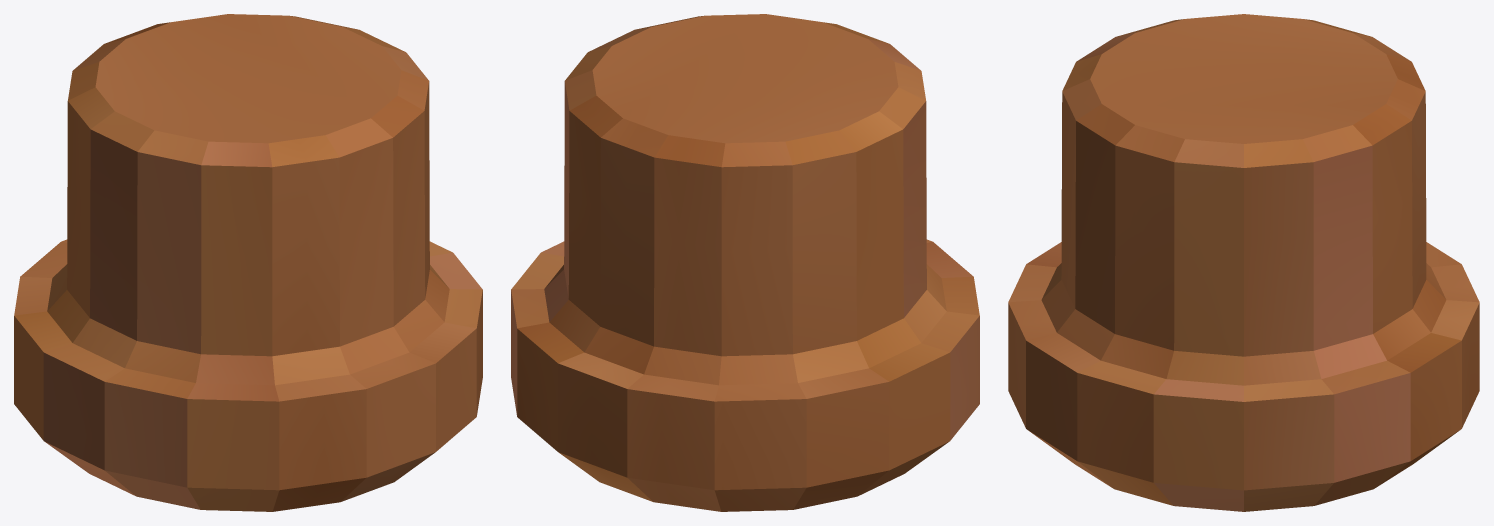
File: original-95.obj
The picture shows the model from 3 angles, left to right: view 1: azimuth 30°, elevation 25°; view 2: azimuth 150°, elevation 25°; view 3: azimuth 270°, elevation 25°; orthographic projection.
Parts seen in each view (by area): view 1: mesh89/mesh89-geometry#mesh89-geometry; view 2: mesh89/mesh89-geometry#mesh89-geometry; view 3: mesh89/mesh89-geometry#mesh89-geometry.
Boxes of the visible parts, x1=… form: mesh89/mesh89-geometry#mesh89-geometry: x1=14, y1=14, x2=482, y2=511; mesh89/mesh89-geometry#mesh89-geometry: x1=511, y1=14, x2=979, y2=511; mesh89/mesh89-geometry#mesh89-geometry: x1=1008, y1=14, x2=1479, y2=511.
Bounding box in the file's own units: 0.00848 × 0.00706 × 0.00848.
